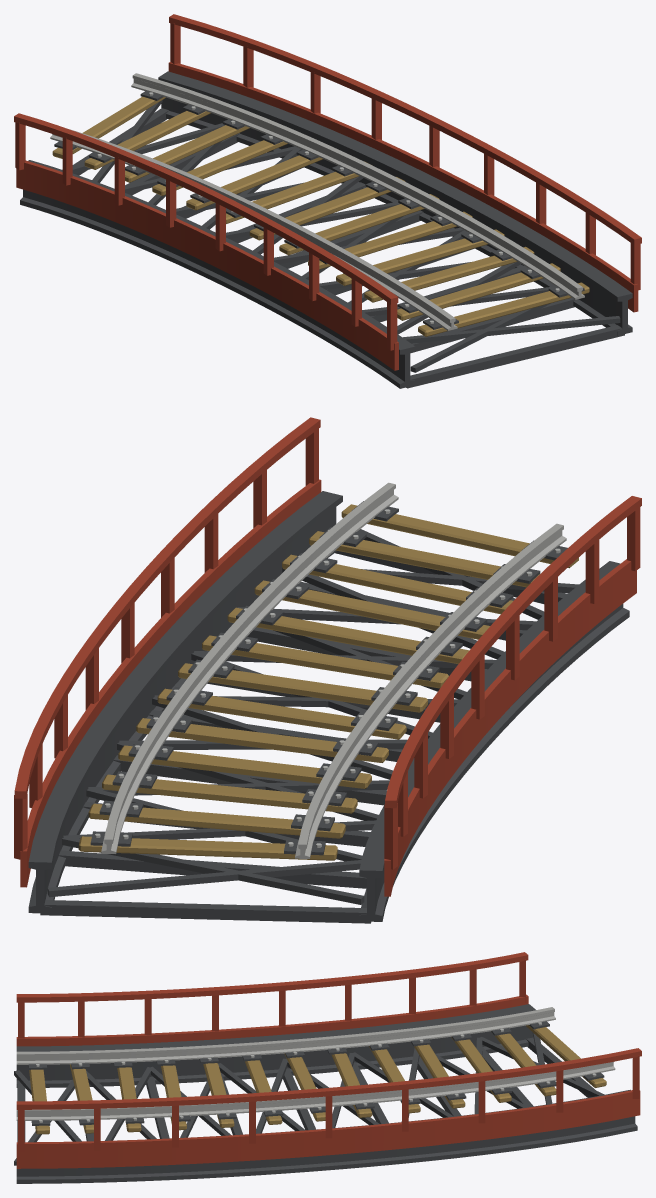
Rendered from elevated-curved-rail-a.glb.
The picture shows the model from 3 angles, top to bottom: view 1: azimuth 30°, elevation 25°; view 2: azimuth 150°, elevation 25°; view 3: azimuth 270°, elevation 25°; orthographic projection. The views are drawn at different scales.
Parts seen in each view (by area): view 1: body; view 2: body; view 3: body.
Part boxes in pixels (x1,y1,x2,y2): body: (14,14,641,388); body: (14,417,641,923); body: (14,952,641,1183).
Size of the model in its own units: 3.19 by 0.825 by 5.54.
